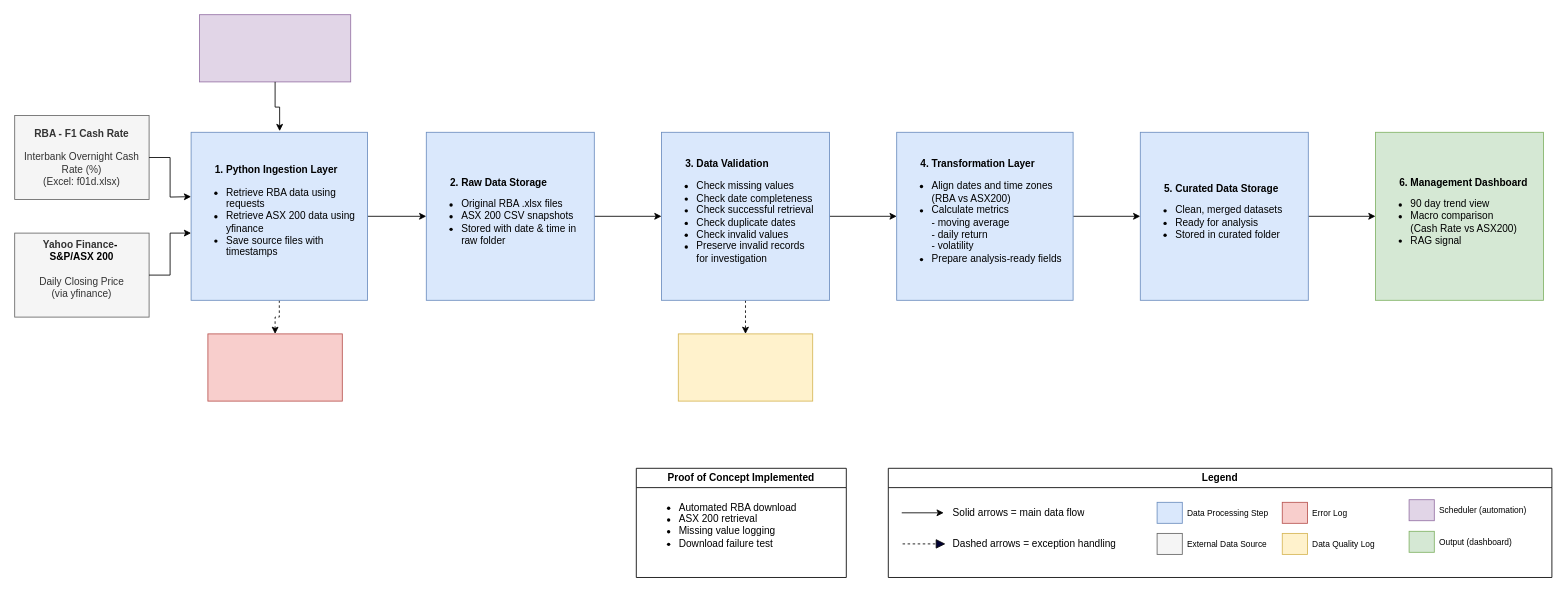
The diagram is 1567 pixels wide and 592 high, and some of its shapes have lost their labels. Each missing label, with the centre of its shape:
Data Quality Log e.g missing cash rate: the point at 745,367
Download Error Log e.g failed RBA download: the point at 274,367
Proposed Daily Scheduler Automates repeatable data ingestion: the point at 275,48
